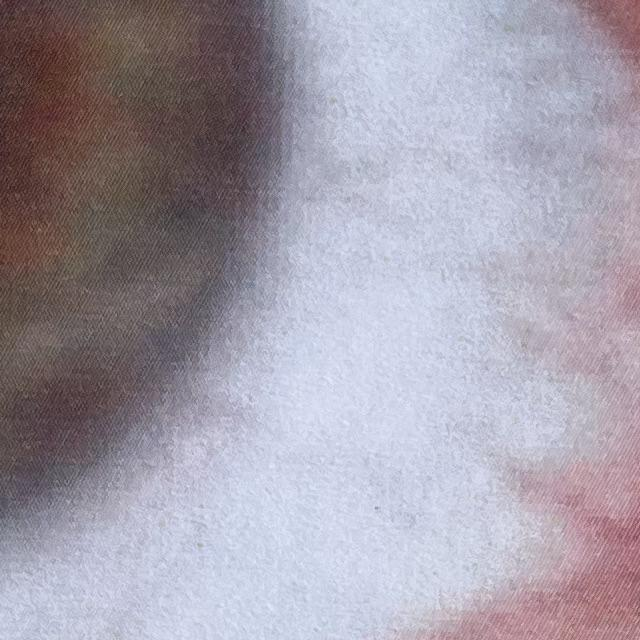eye: (0, 0, 640, 640)
iris: (0, 0, 289, 615)
